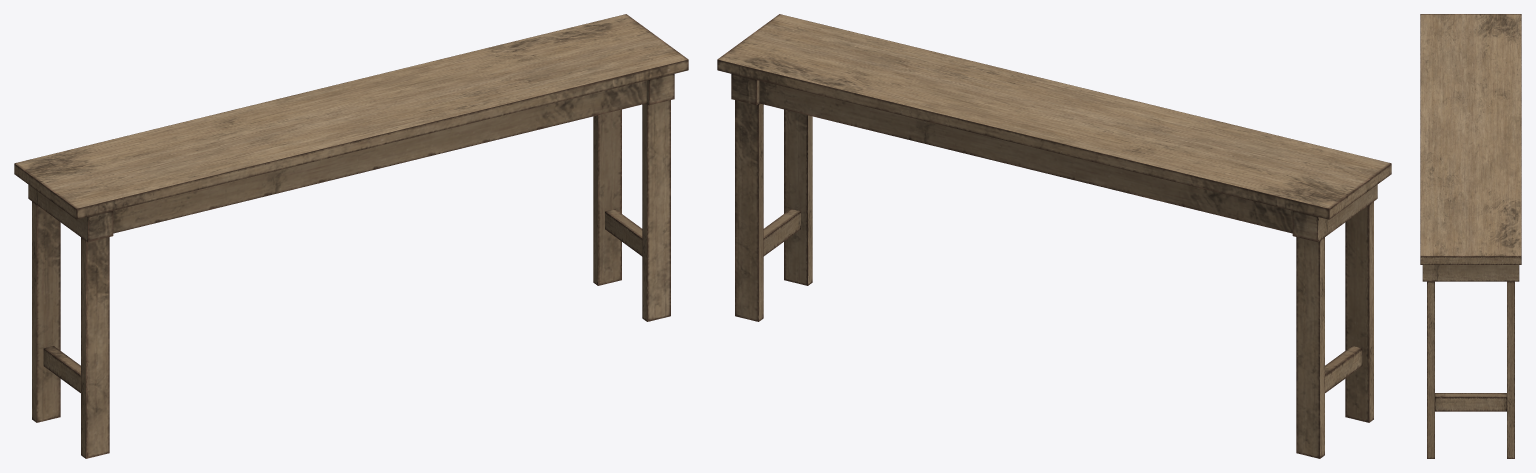
Rendered from comptoir.glb.
3 renders of one model, left to right at view 1: azimuth 30°, elevation 25°; view 2: azimuth 150°, elevation 25°; view 3: azimuth 270°, elevation 25°, orthographic. The views are drawn at different scales.
Visible parts, largest first — view 1: Table_Wood_01_Table_Wood_01_0; view 2: Table_Wood_01_Table_Wood_01_0; view 3: Table_Wood_01_Table_Wood_01_0.
Part boxes in pixels (x1,y1,x2,y2): Table_Wood_01_Table_Wood_01_0: [14, 14, 688, 458]; Table_Wood_01_Table_Wood_01_0: [717, 14, 1391, 458]; Table_Wood_01_Table_Wood_01_0: [1420, 14, 1521, 458].
Bounding box in the file's own units: 1.8 × 0.72 × 0.3176.
1 material, 1 textured.
